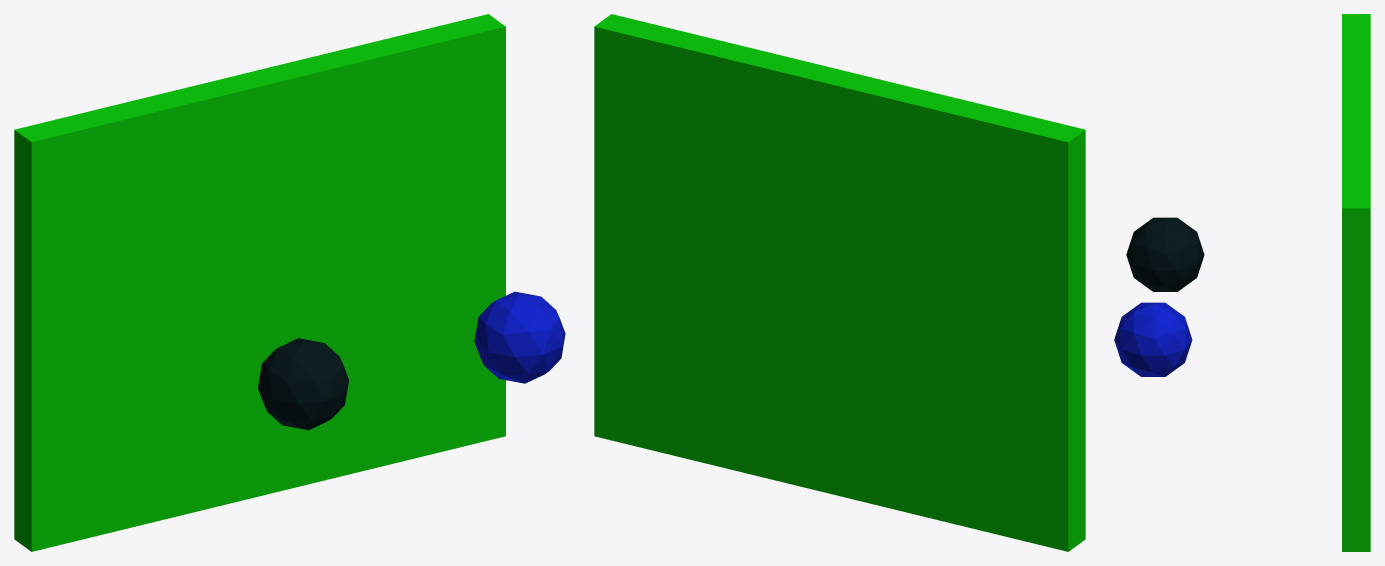
The model's file is glassOrbs.obj.
3 renders of one model, left to right at view 1: azimuth 30°, elevation 25°; view 2: azimuth 150°, elevation 25°; view 3: azimuth 270°, elevation 25°, orthographic. The views are drawn at different scales.
Visible parts, largest first — view 1: Cube_Cube.001, Icosphere.001, Icosphere; view 2: Cube_Cube.001; view 3: Cube_Cube.001, Icosphere, Icosphere.001.
Part boxes in pixels (<box>): Cube_Cube.001: <box>14,14,505,551</box>; Icosphere.001: <box>474,291,565,383</box>; Icosphere: <box>258,338,348,430</box>; Cube_Cube.001: <box>594,14,1085,551</box>; Cube_Cube.001: <box>1342,14,1370,551</box>; Icosphere: <box>1126,217,1204,291</box>; Icosphere.001: <box>1114,302,1192,376</box>.
Bounding box in the file's own units: 11.74 × 9.69 × 6.56.
